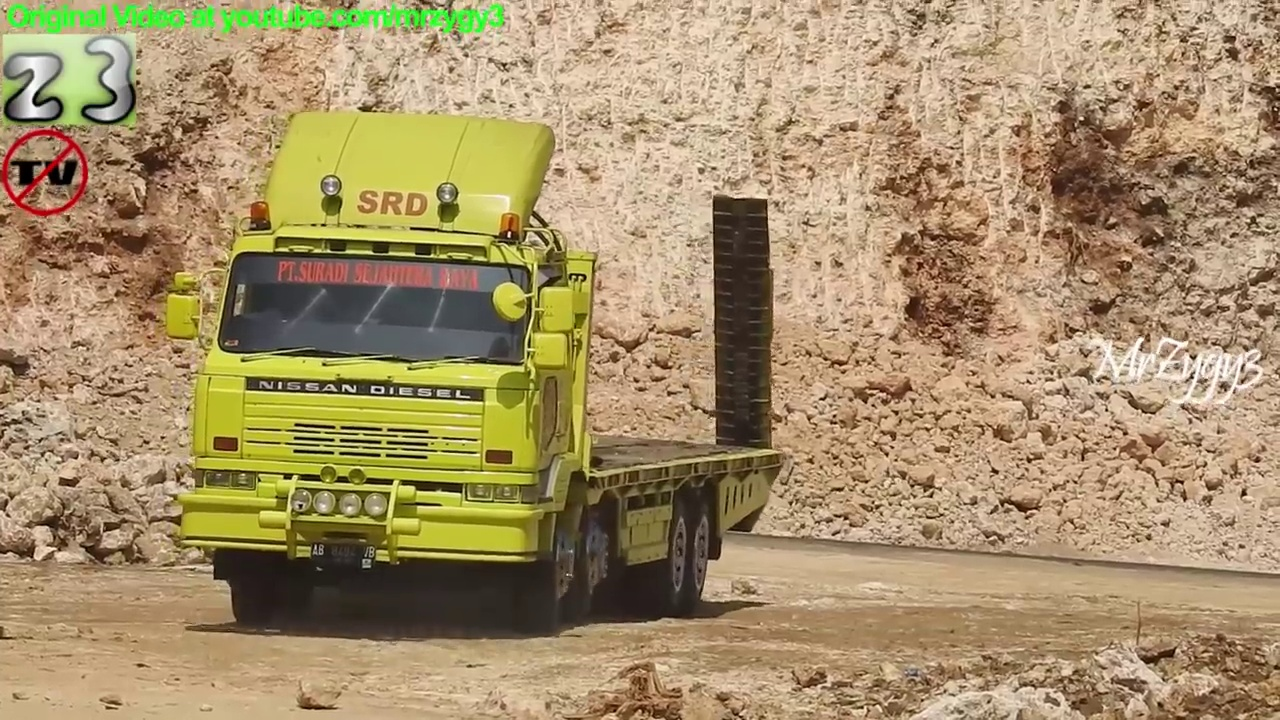truck: (160, 105, 792, 637)
